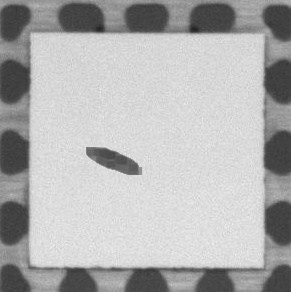DIE_INK: (84, 144, 143, 178)
